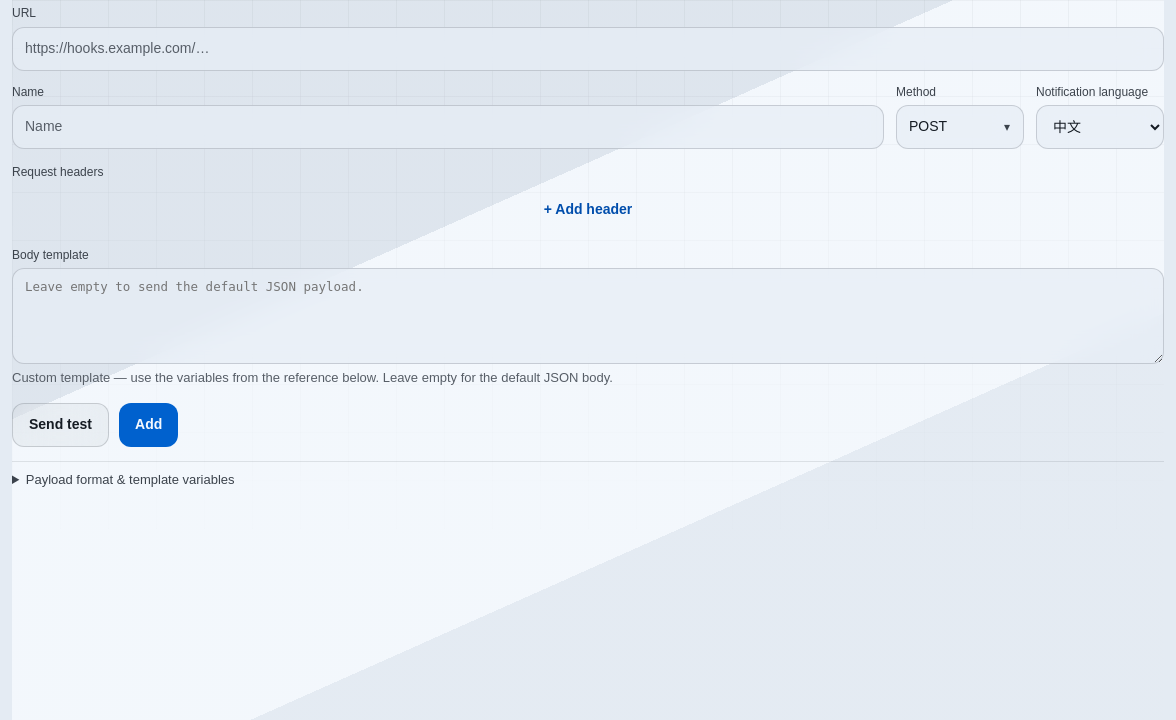
Test: WebhookChannelForm › surfaces a rejected save in the form
Type "https://x" into the field labelled "URL".
click(588, 49); type("https://x")  # box [12,27,1164,71]
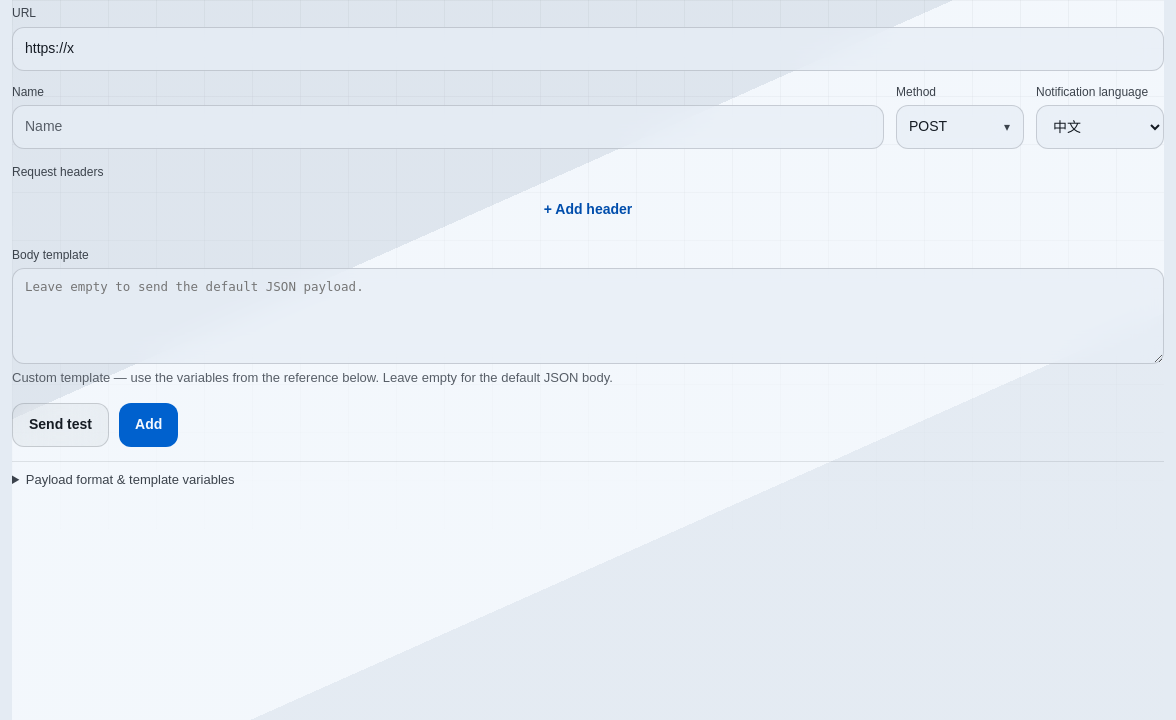
Click the button "Add".
click(149, 424)  # box [119,402,178,446]
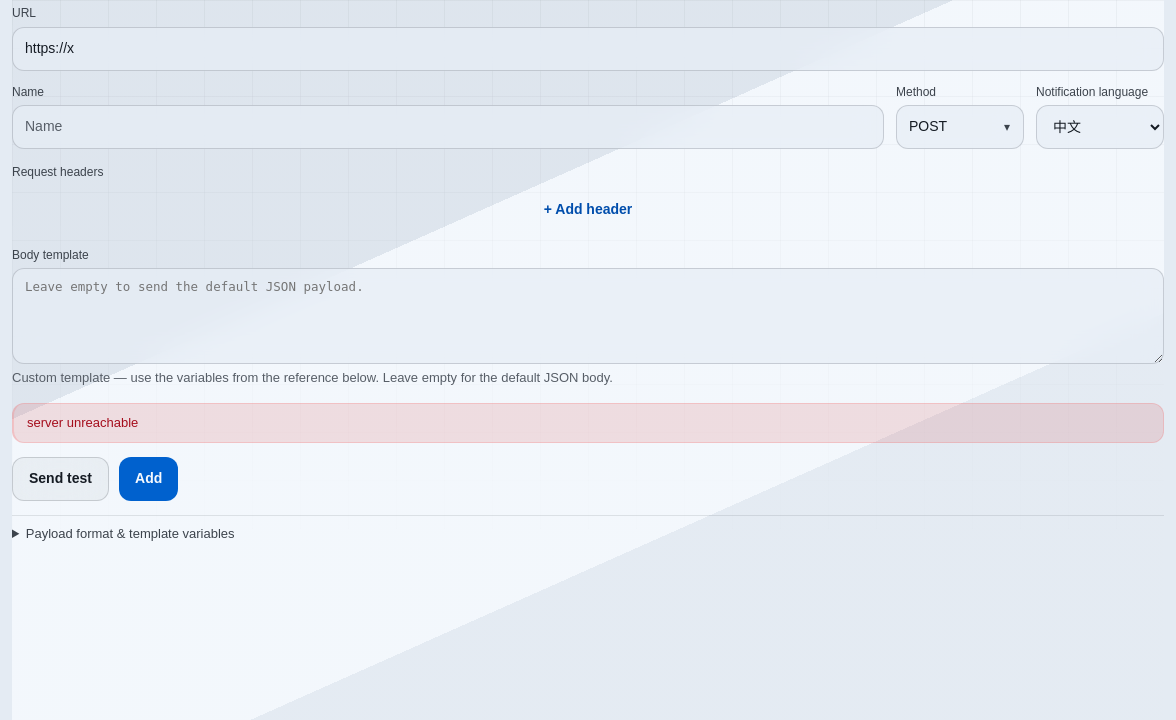
Now the text with class "inline" reads "server unreachable", box [27,414,138,430]
